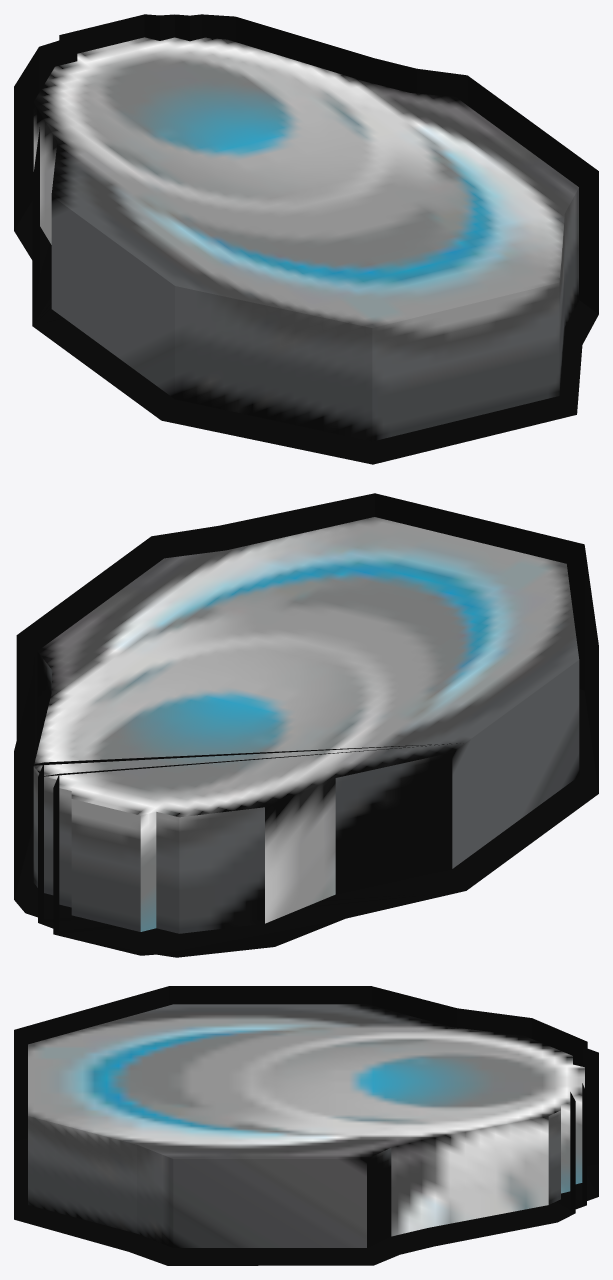
Rendered from Building_GravcorePowerCell_Things_Building_GravcorePowerCell.glb.
The picture shows the model from 3 angles, top to bottom: view 1: azimuth 30°, elevation 25°; view 2: azimuth 150°, elevation 25°; view 3: azimuth 270°, elevation 25°; orthographic projection. The views are drawn at different scales.
Parts seen in each view (by area): view 1: Body, Outline; view 2: Body, Outline; view 3: Body, Outline.
Part boxes in pixels (x1,y1,x2,y2): Body: [33, 37, 578, 441]; Outline: [14, 14, 598, 464]; Body: [33, 517, 579, 933]; Outline: [14, 493, 598, 957]; Body: [28, 1004, 584, 1247]; Outline: [14, 986, 598, 1265].
Bounding box in the file's own units: 0.9117 × 0.3051 × 1.35.
2 materials, 1 textured.
